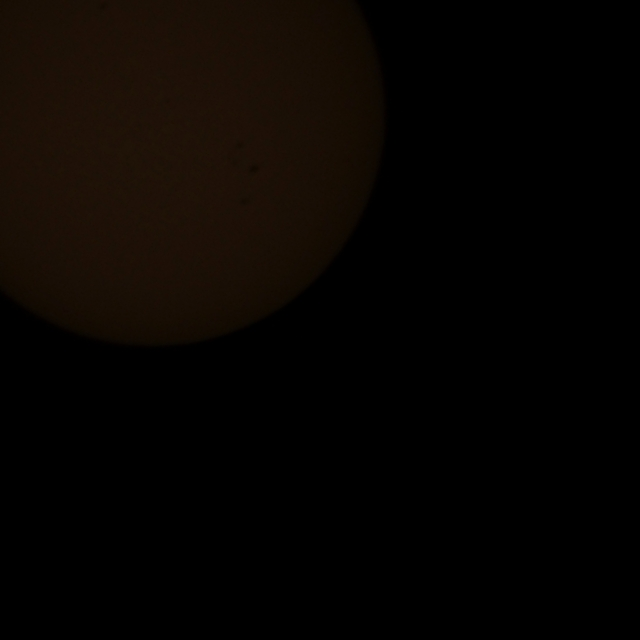sunspot: (231, 191, 255, 213), (235, 133, 253, 150), (248, 163, 263, 177)
